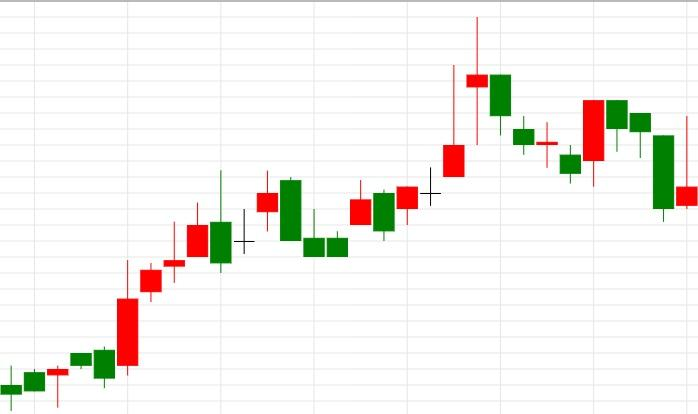bearish_engulfing_fall: (0, 170, 232, 411)
inverse_hammer_rise: (256, 171, 325, 258)
